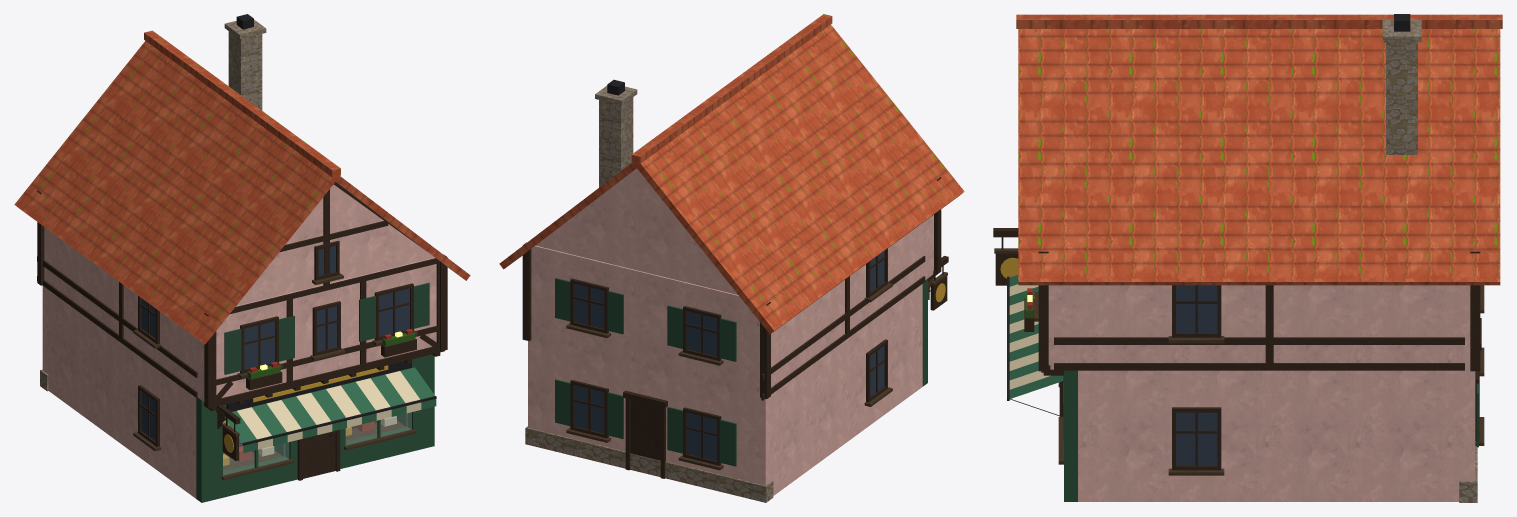
Rendered from shop_house.glb.
3 views of the same model, side by side, from view 1: azimuth 30°, elevation 25°; view 2: azimuth 150°, elevation 25°; view 3: azimuth 270°, elevation 25° (orthographic). The views are drawn at different scales.
Visible parts, largest first — view 1: shop_house; view 2: shop_house; view 3: shop_house.
Part boxes in pixels (x1=…): shop_house: x1=14, y1=14, x2=470, y2=502; shop_house: x1=499, y1=14, x2=964, y2=502; shop_house: x1=993, y1=14, x2=1502, y2=502.
Size of the model in its own units: 8.8 by 10.82 by 11.15.
16 materials, 4 textured.
